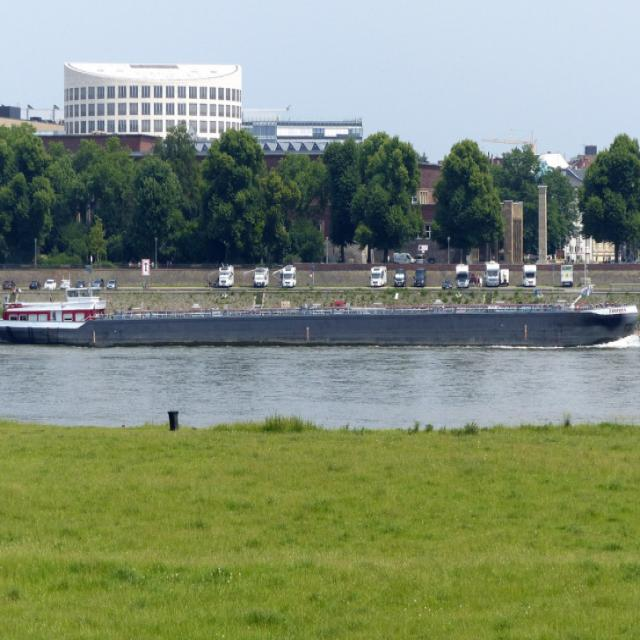tugboat: (1, 277, 113, 365)
